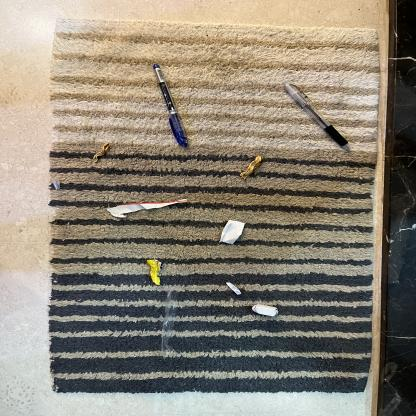dirty: (107, 199, 186, 218), (160, 288, 178, 360), (219, 220, 244, 244), (241, 155, 261, 179), (145, 259, 162, 286), (93, 143, 109, 162), (226, 281, 243, 295), (53, 180, 60, 191)
